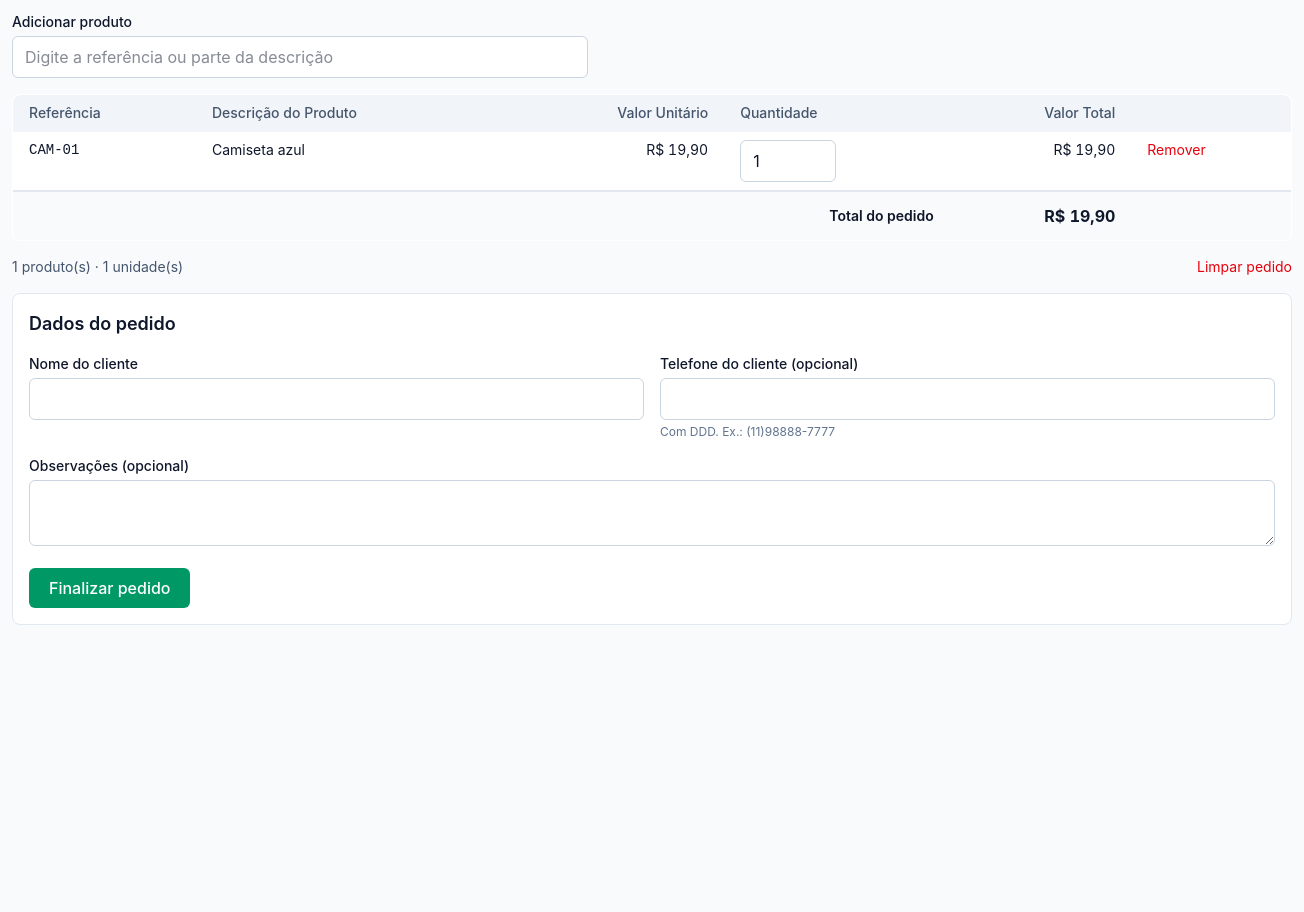
Test case: edição e cálculo automático › o produto removido volta a aparecer nas sugestões
Click the button with aria-label "Remover CAM-01": (1176, 150) top-left (1147, 140), bottom-right (1206, 160)
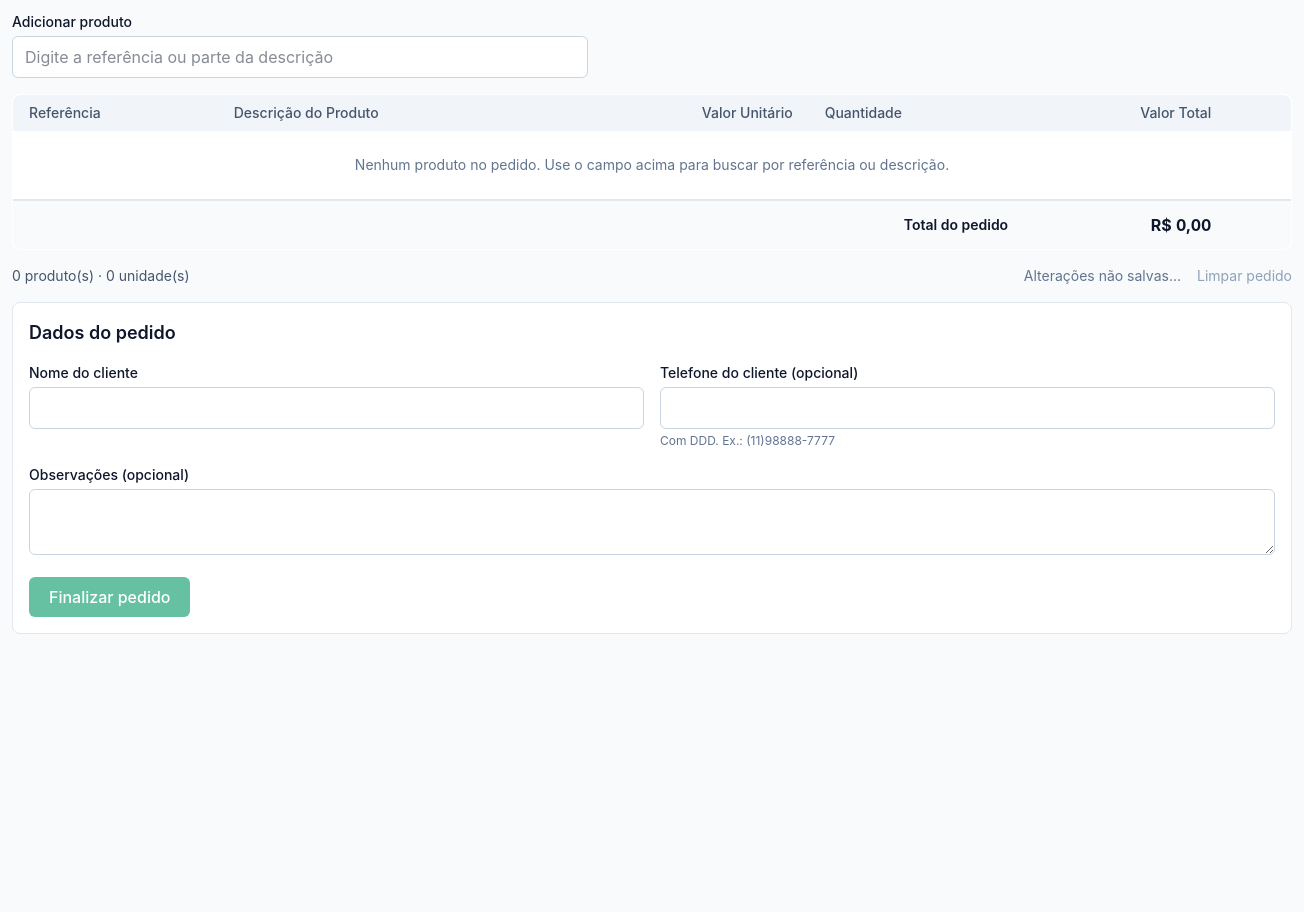
Result: the cell with test id "empty-order" is shown at top-left (12, 131), bottom-right (1292, 200)
In the dropdown labelled "Adicionar produto": (300, 57) top-left (12, 36), bottom-right (588, 78), type "cam"
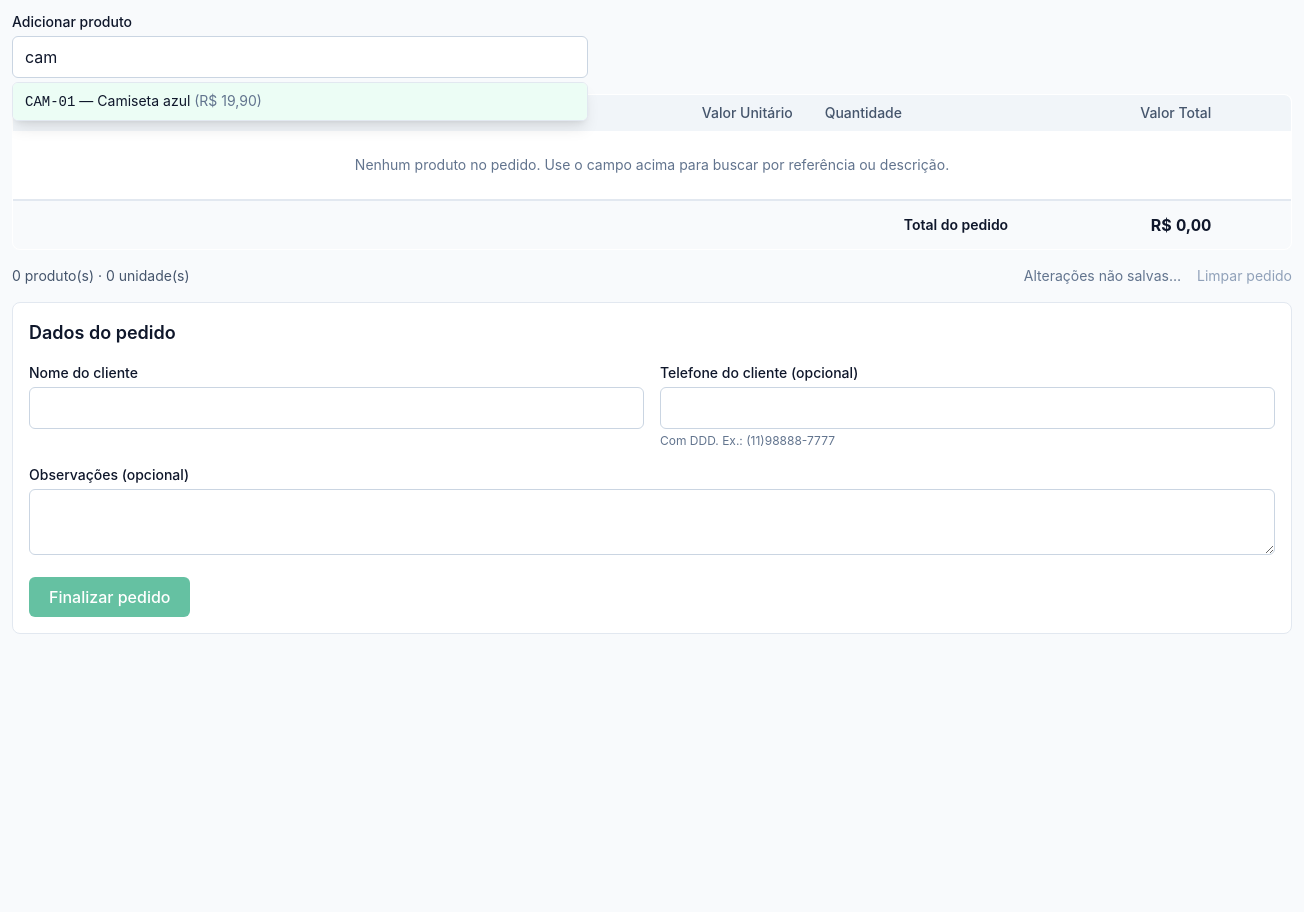
Result: the option "CAM-01 — Camiseta azul (R$ 19,90)" is shown at top-left (13, 83), bottom-right (587, 120)
